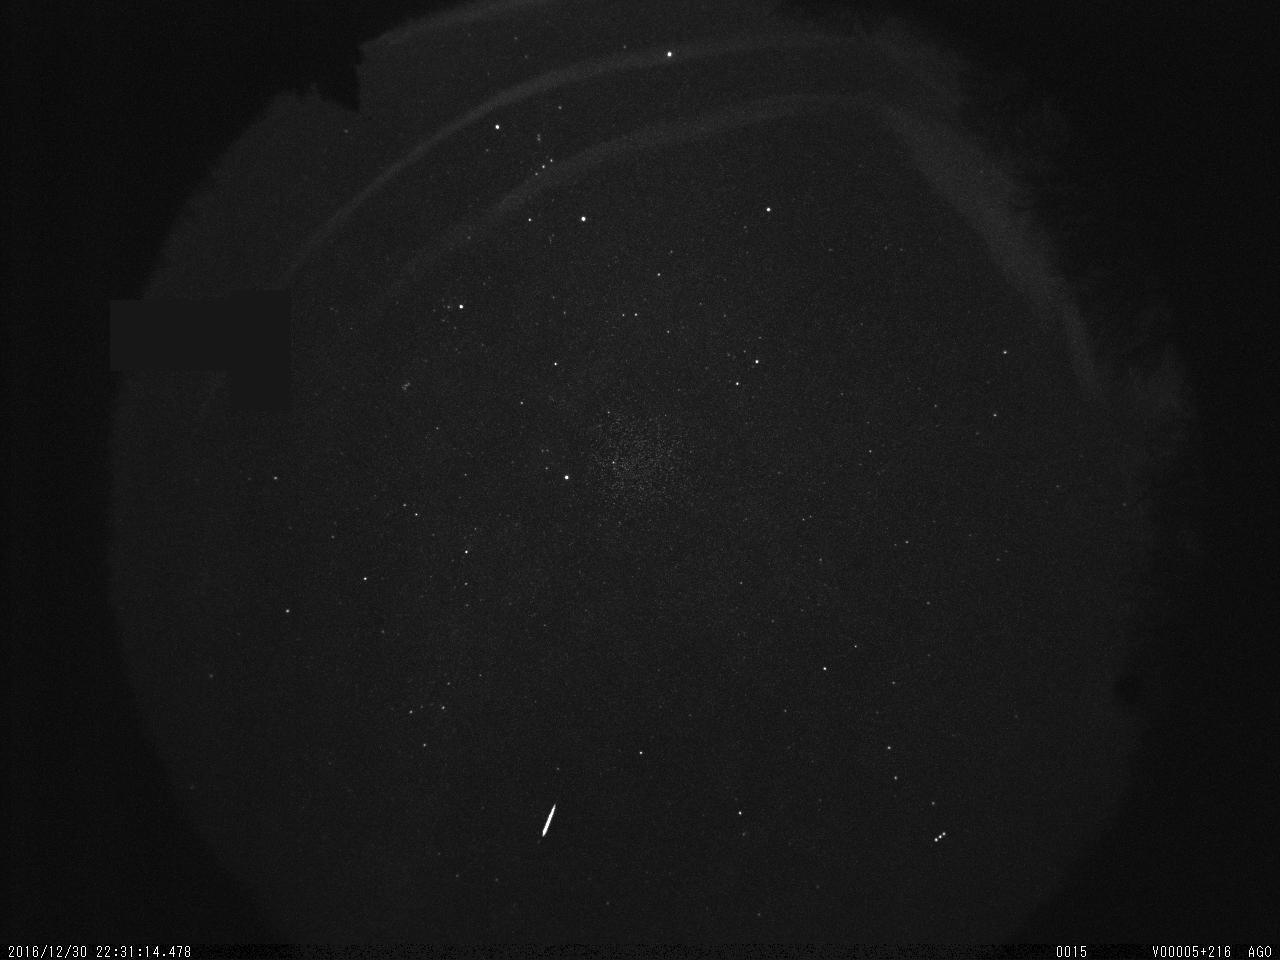meteor: (534, 798, 565, 844)
